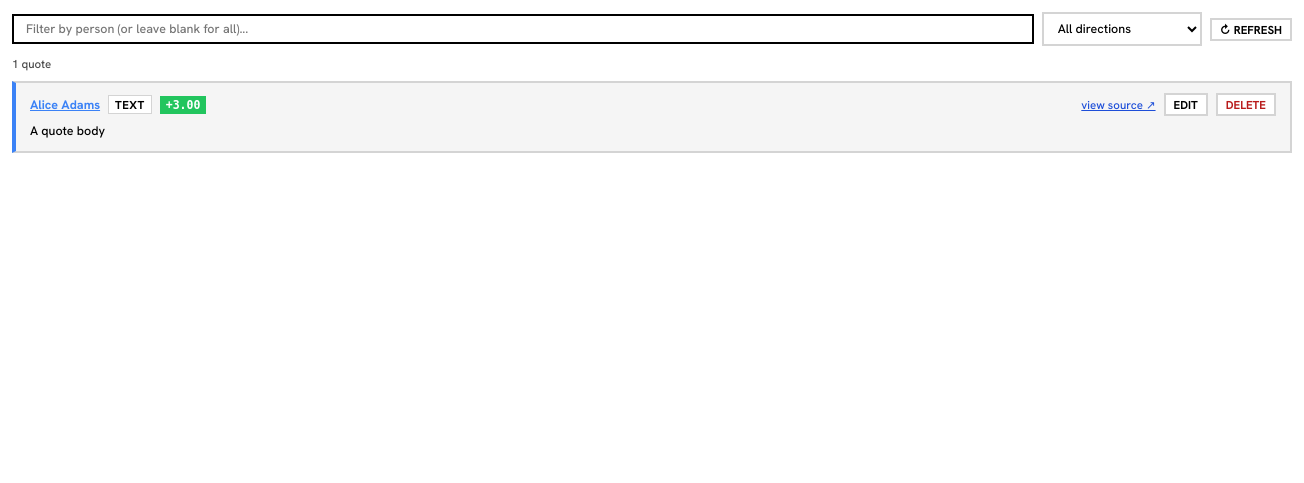
Test: QuotesListView — inline edit › Save is disabled until a reason is filled in
Check: the text "1 quote" is shown, box [12,56,51,71]
Click the button "Edit" at coordinates (1186, 104), box [1164,93,1208,116]
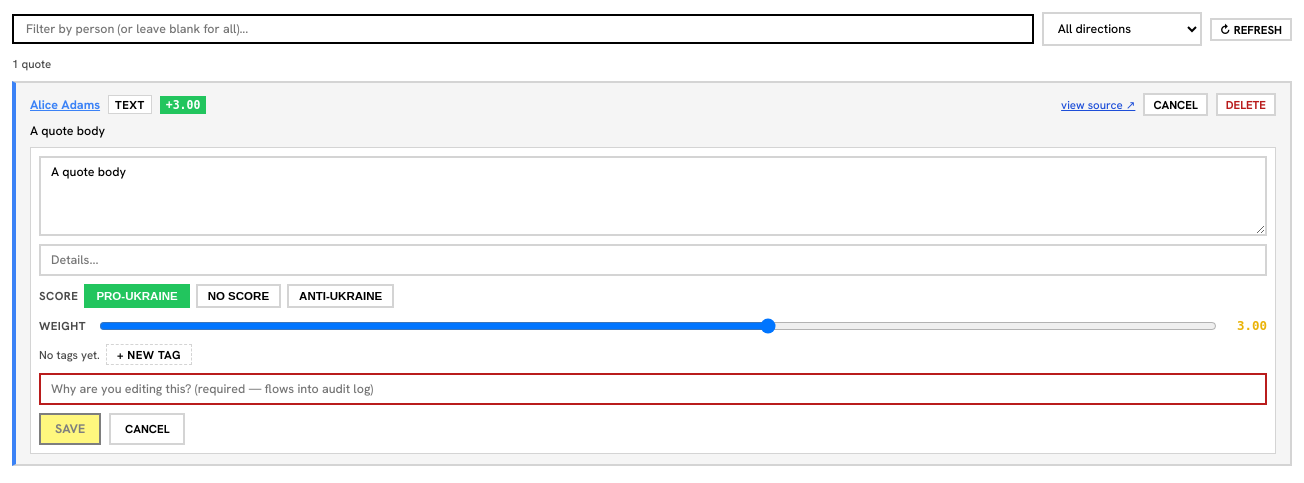
Check: the button "Save" is disabled, box [39,413,101,445]
Type "fix typo" into the field with placeholder "Why are you editing this? (required — flows into audit log)" at coordinates (653, 389), box [39,373,1267,405]
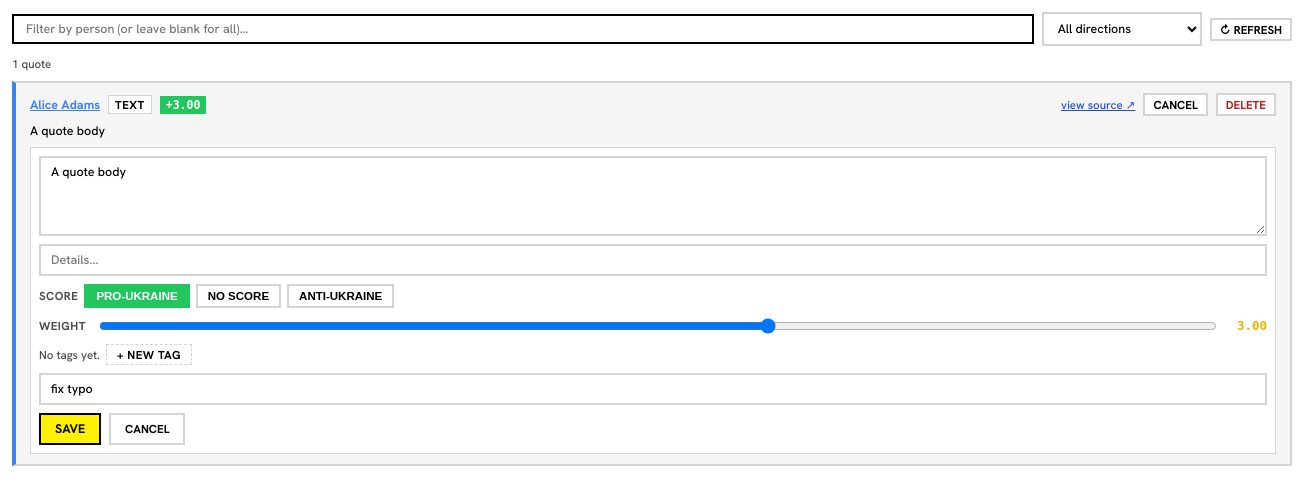
Check: the button "Save" is enabled, box [39,413,101,445]
